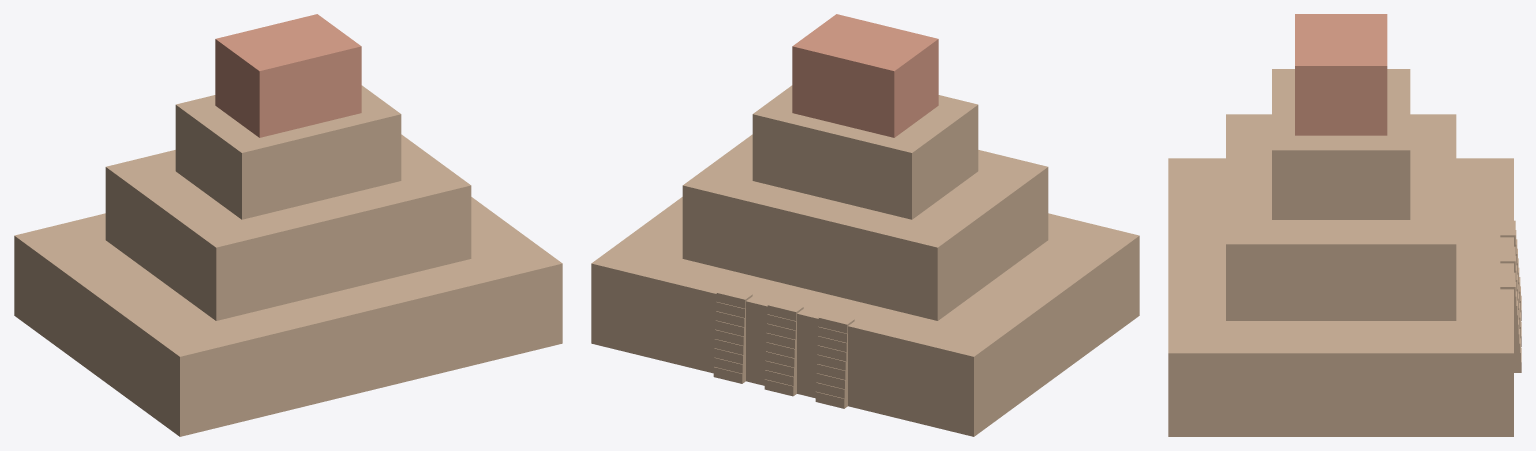
The model's file is ziggurat.glb.
3 renders of one model, left to right at view 1: azimuth 30°, elevation 25°; view 2: azimuth 150°, elevation 25°; view 3: azimuth 270°, elevation 25°, orthographic. The views are drawn at different scales.
Parts seen in each view (by area): view 1: ziggurat; view 2: ziggurat; view 3: ziggurat.
Boxes of the visible parts, <box> form: ziggurat: <box>14,14,562,436</box>; ziggurat: <box>591,14,1139,436</box>; ziggurat: <box>1168,14,1521,436</box>.
Size of the model in its own units: 13.95 by 10 by 10.7.
